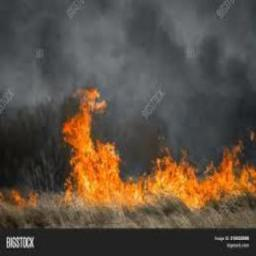Low smoke: (14, 7, 240, 129)
Medium fire: (1, 89, 256, 211)
